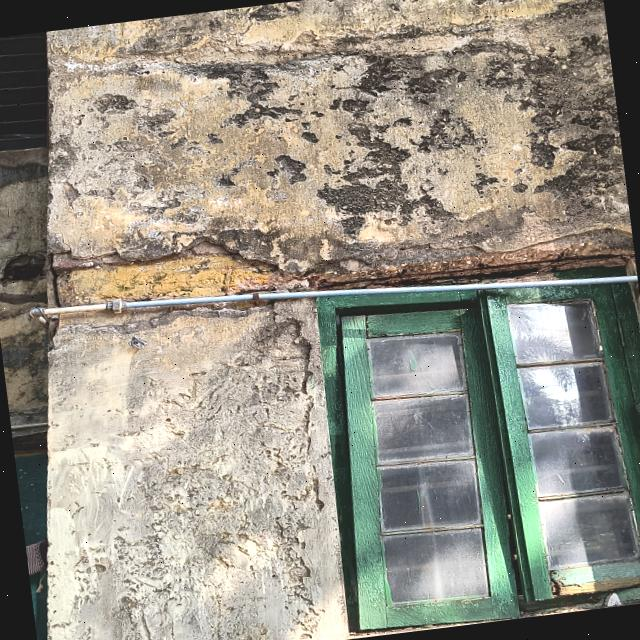Scaling: (48, 298, 350, 640)
Spalling: (46, 0, 634, 307), (318, 252, 637, 290)
pollution -moisture induced blackening: (45, 0, 634, 307)
